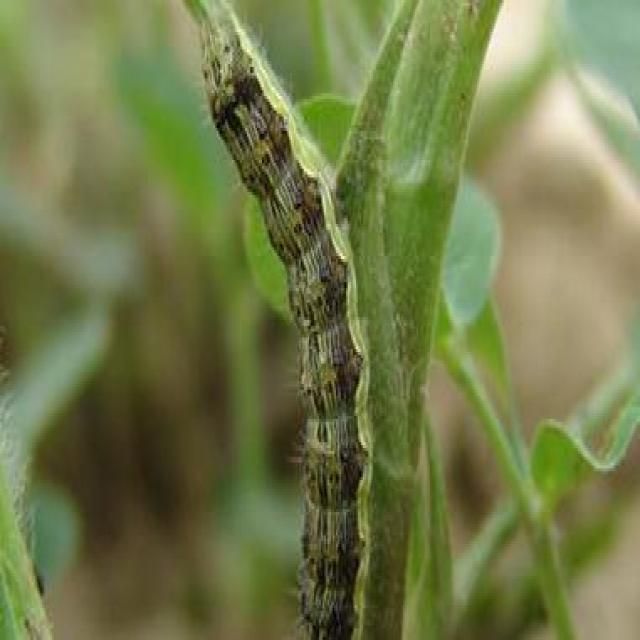BeetArmyWorm-Larva-: (183, 18, 387, 637)
